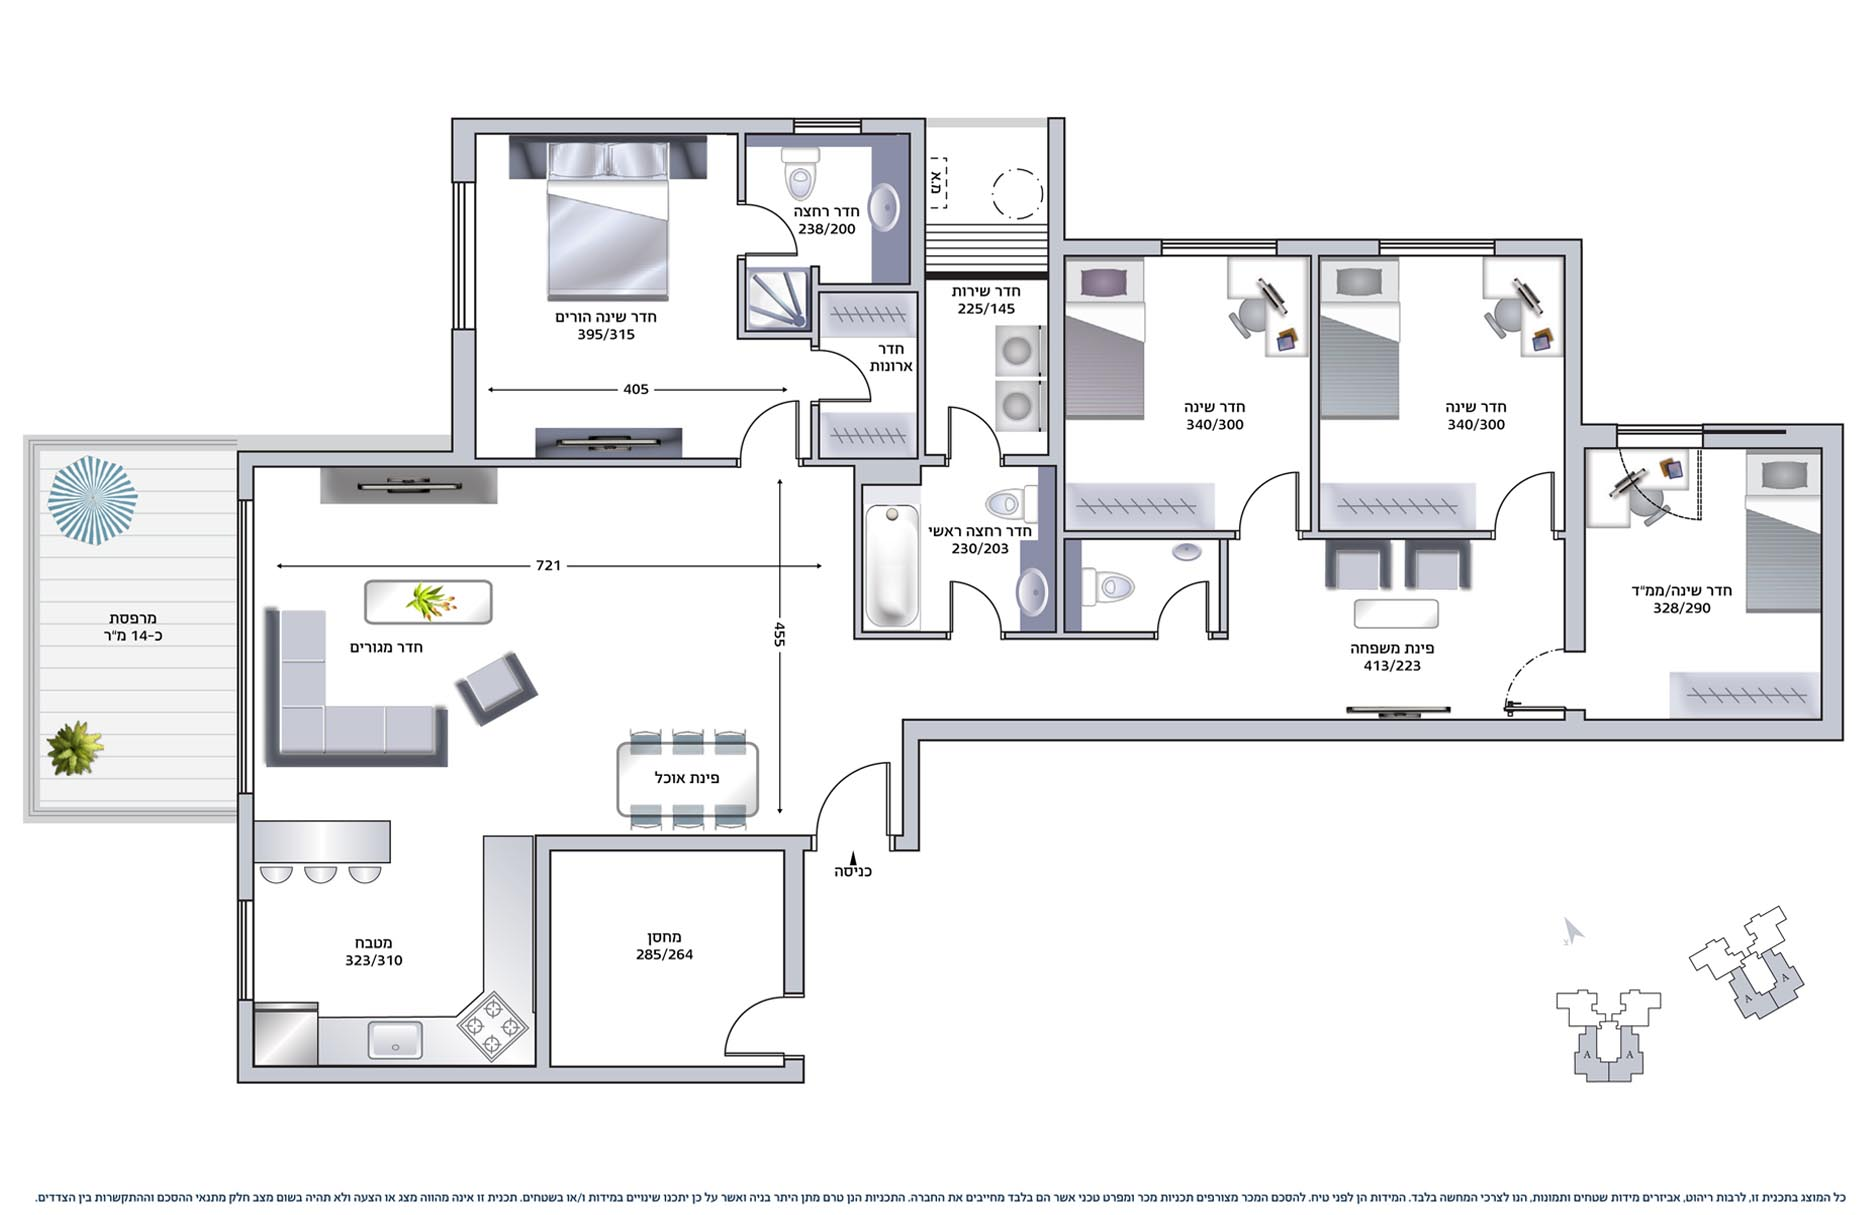door: (1625, 460, 1724, 537), (1480, 449, 1563, 524), (803, 758, 900, 821), (1484, 610, 1542, 715), (1236, 462, 1303, 524), (1139, 573, 1214, 625), (716, 991, 767, 1062), (938, 567, 1000, 625), (936, 389, 992, 450), (761, 200, 808, 269), (744, 398, 807, 449), (825, 344, 872, 408)
wall: (902, 721, 1839, 739), (1562, 239, 1585, 655), (239, 1065, 720, 1083), (1045, 119, 1064, 449), (1822, 425, 1841, 747), (536, 835, 811, 852), (453, 117, 792, 130), (239, 450, 477, 466), (453, 329, 476, 465), (538, 835, 551, 1083), (784, 835, 803, 993), (909, 120, 924, 290), (477, 457, 736, 466), (863, 120, 924, 134)
window: (239, 499, 256, 794), (453, 181, 484, 329), (1618, 423, 1706, 449), (1379, 239, 1497, 256), (1163, 241, 1278, 259), (239, 899, 258, 998)
